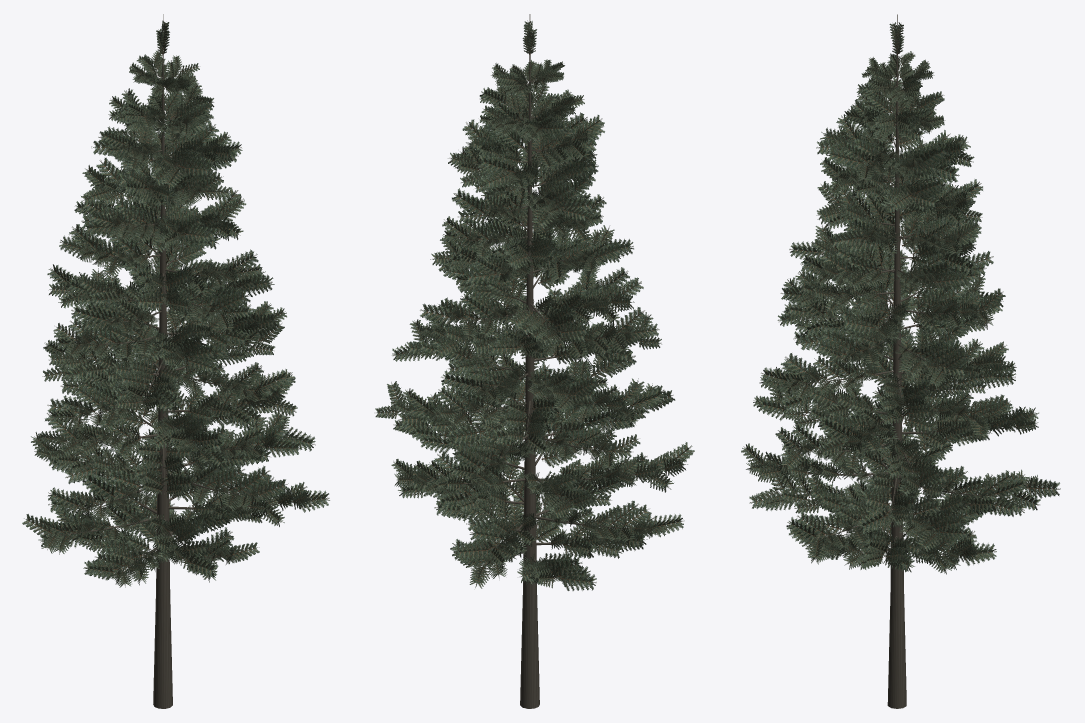
The model's file is Sitka_Pole_01_Unpruned_LOD0.fbx.
3 renders of one model, left to right at view 1: azimuth 30°, elevation 25°; view 2: azimuth 150°, elevation 25°; view 3: azimuth 270°, elevation 25°, orthographic.
Parts seen in each view (by area): view 1: Sitka_Pole_01_Unpruned_LOD0; view 2: Sitka_Pole_01_Unpruned_LOD0; view 3: Sitka_Pole_01_Unpruned_LOD0.
Boxes of the visible parts, x1,y1,x2,y2 form: Sitka_Pole_01_Unpruned_LOD0: [22, 14, 329, 708]; Sitka_Pole_01_Unpruned_LOD0: [375, 14, 694, 708]; Sitka_Pole_01_Unpruned_LOD0: [741, 14, 1060, 708].
Bounding box in the file's own units: 353 × 800 × 355.
2 materials, 2 textured.
